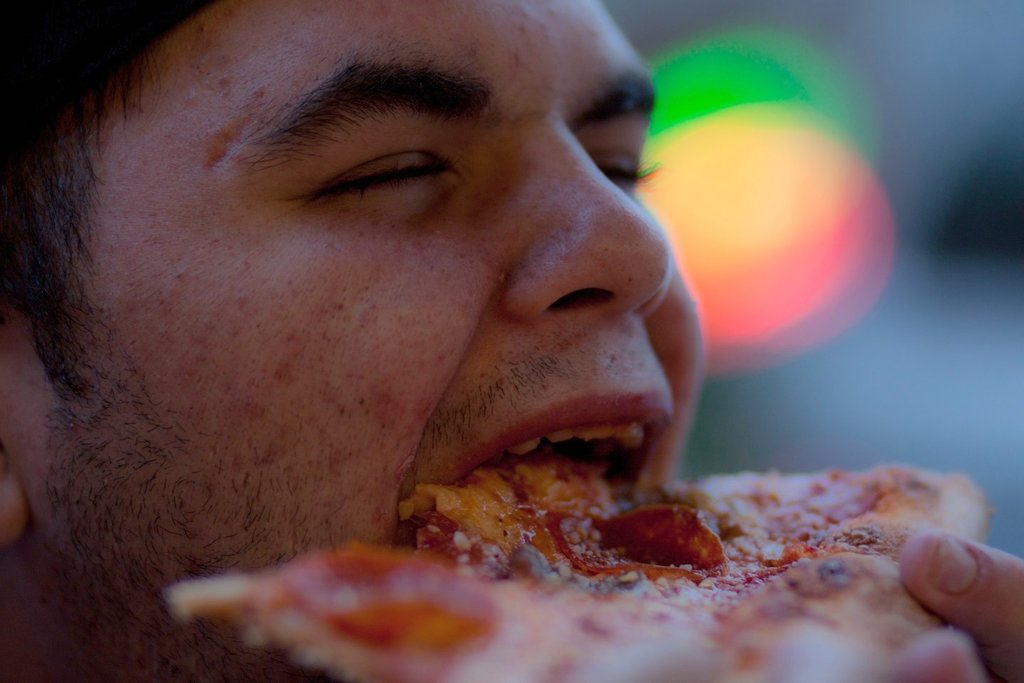Pizza: (159, 459, 979, 682)
